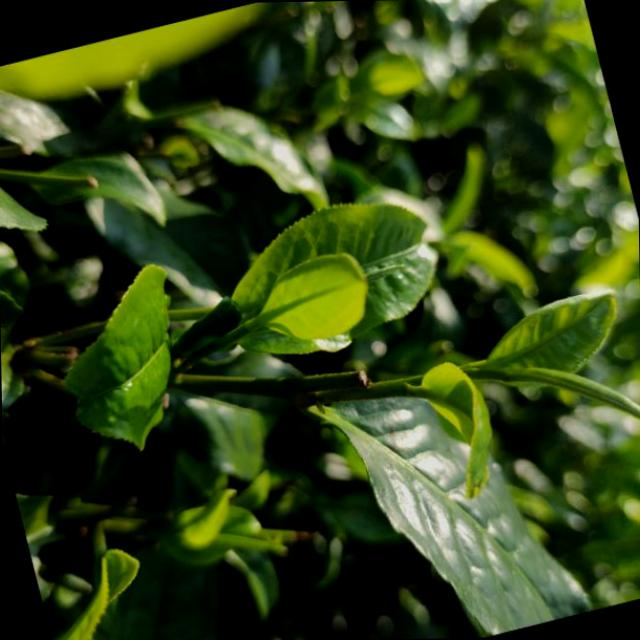Stem: (369, 377, 408, 397), (221, 324, 249, 345)
